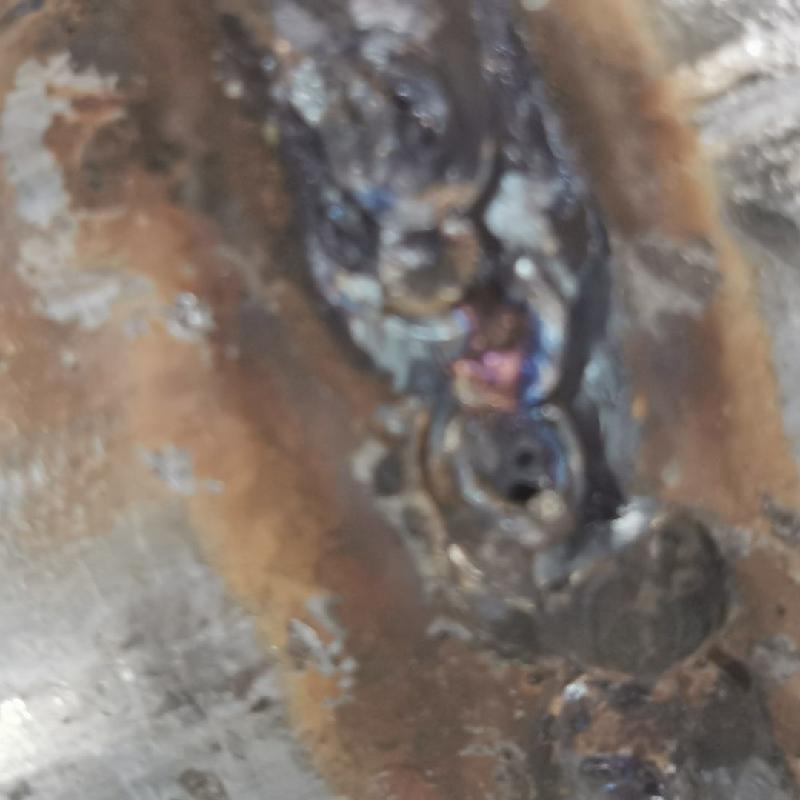Surface_pores: (487, 432, 557, 513)
crater: (255, 26, 588, 550)
wrong_size: (558, 533, 791, 794)
